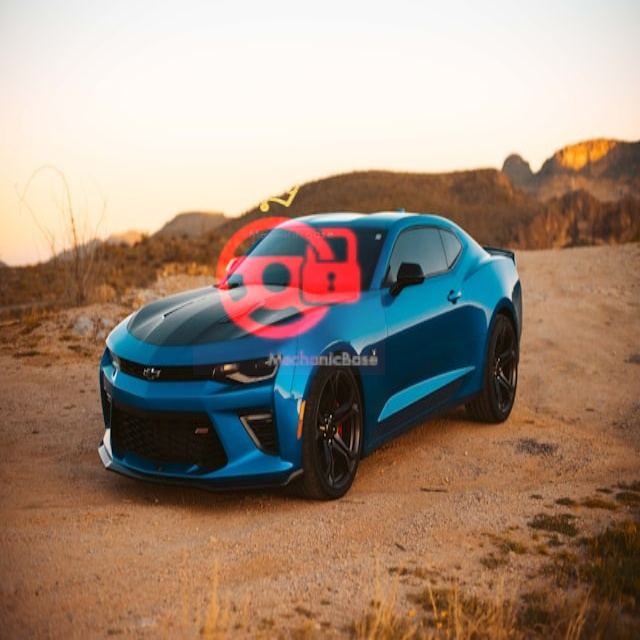symbol: (193, 183, 385, 375), (190, 97, 339, 246)
